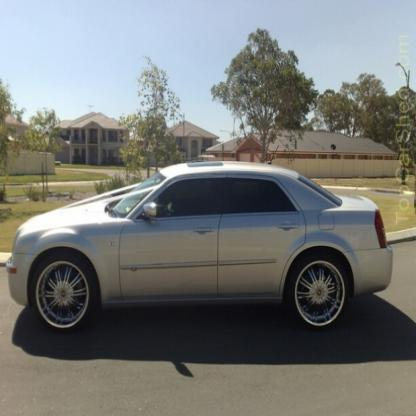Vehicle: (4, 160, 395, 346)
